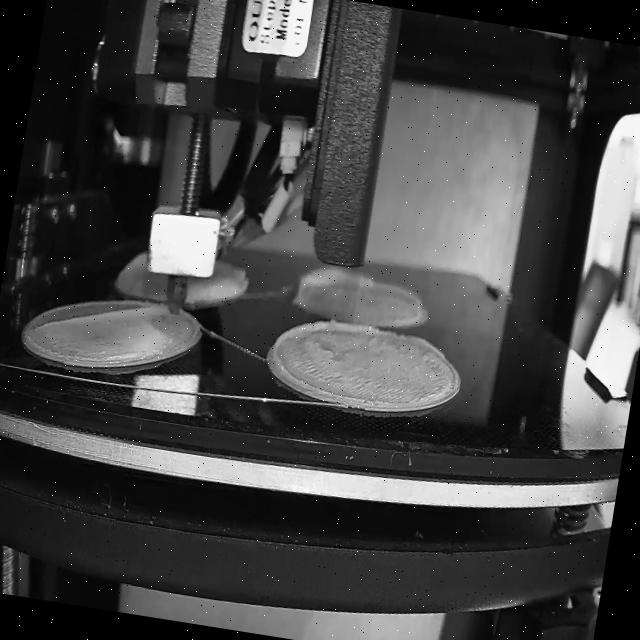over_extrusion: (266, 312, 375, 406), (32, 284, 168, 350), (293, 260, 374, 310), (401, 331, 448, 361), (374, 280, 421, 306)
